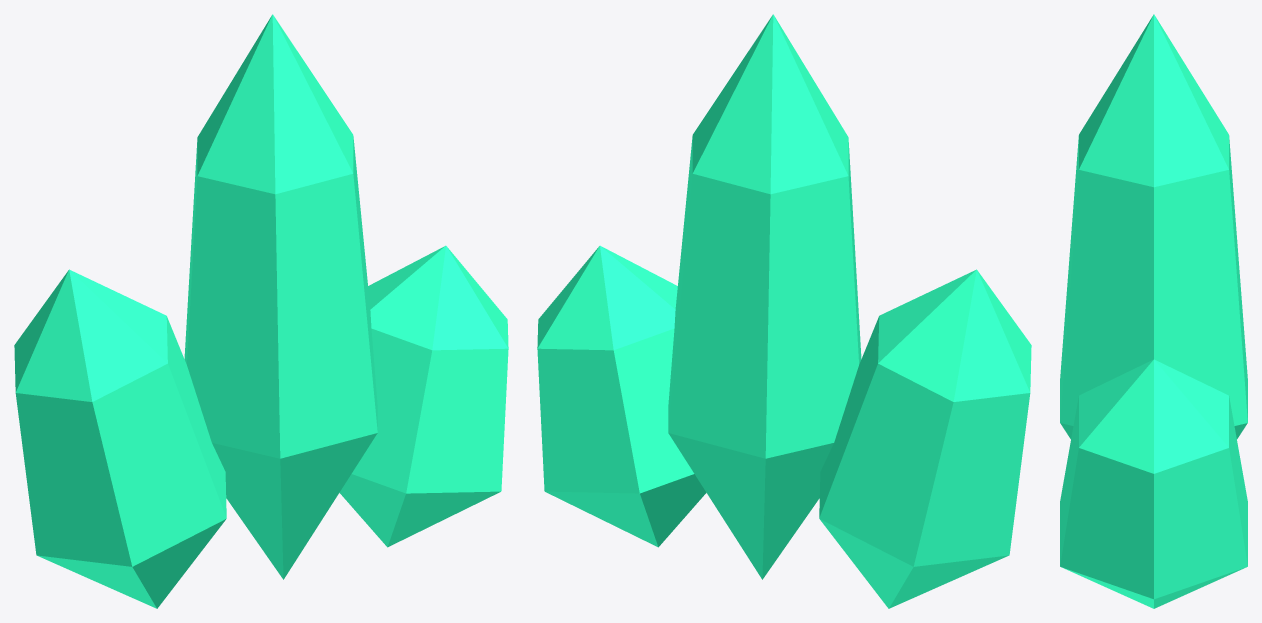
Rendered from ore-5.glb.
The picture shows the model from 3 angles, left to right: view 1: azimuth 30°, elevation 25°; view 2: azimuth 150°, elevation 25°; view 3: azimuth 270°, elevation 25°; orthographic projection. The views are drawn at different scales.
Parts seen in each view (by area): view 1: Emerald prismatic cluster.001, Emerald prismatic cluster, Emerald prismatic cluster.002; view 2: Emerald prismatic cluster.001, Emerald prismatic cluster, Emerald prismatic cluster.002; view 3: Emerald prismatic cluster.001, Emerald prismatic cluster.002.
Part boxes in pixels (bbox=[...]): Emerald prismatic cluster.001: bbox=[184, 14, 377, 579]; Emerald prismatic cluster: bbox=[14, 269, 226, 608]; Emerald prismatic cluster.002: bbox=[339, 245, 508, 547]; Emerald prismatic cluster.001: bbox=[668, 14, 861, 579]; Emerald prismatic cluster: bbox=[819, 269, 1031, 608]; Emerald prismatic cluster.002: bbox=[537, 245, 706, 547]; Emerald prismatic cluster.001: bbox=[1060, 14, 1247, 438]; Emerald prismatic cluster.002: bbox=[1060, 359, 1247, 608].
Bounding box in the file's own units: 1.31 × 1.45 × 0.4503.
